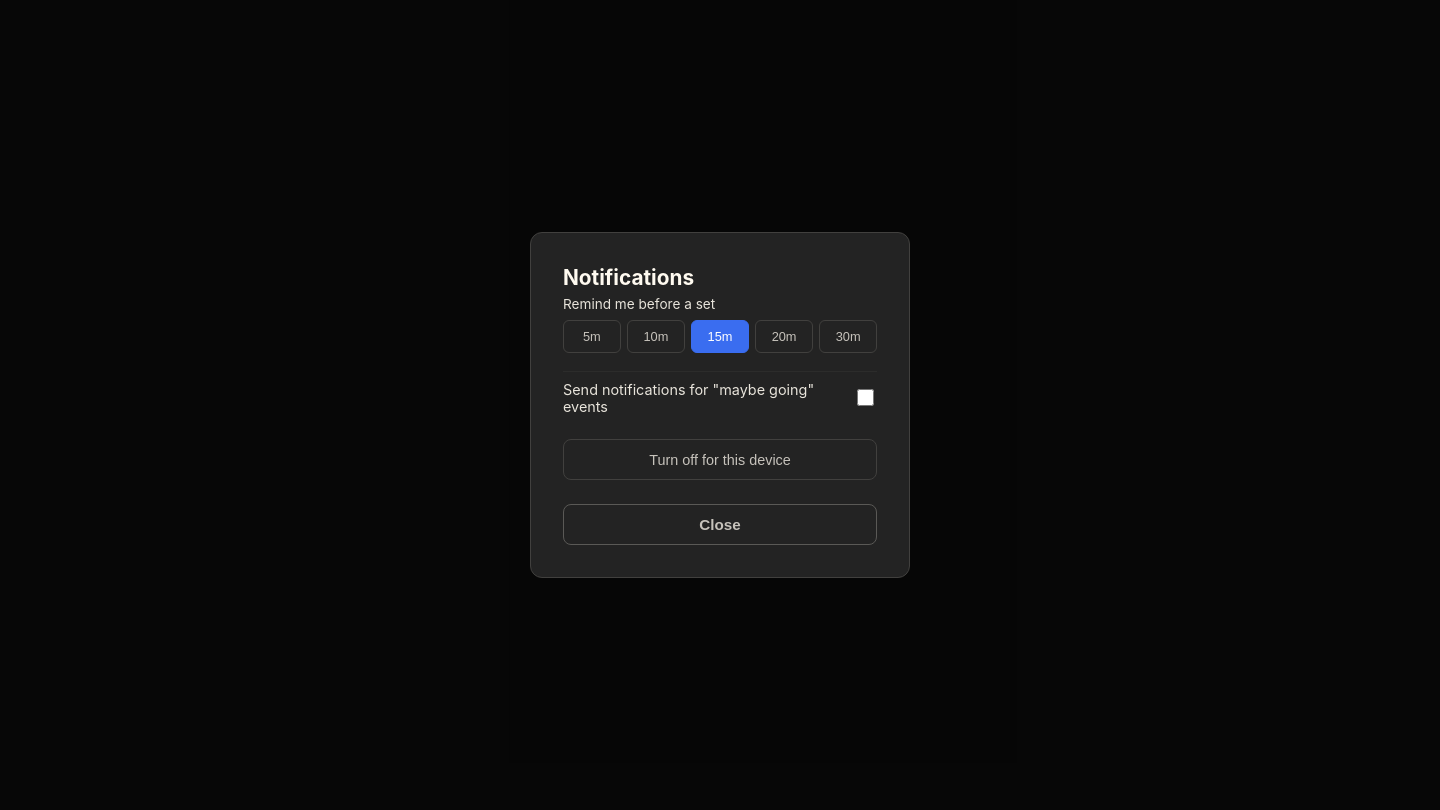
Test: NotificationsModal › hides the confirm button again once the save succeeds
Click the button "30m": coordinates (848, 337) [819, 320, 877, 353]
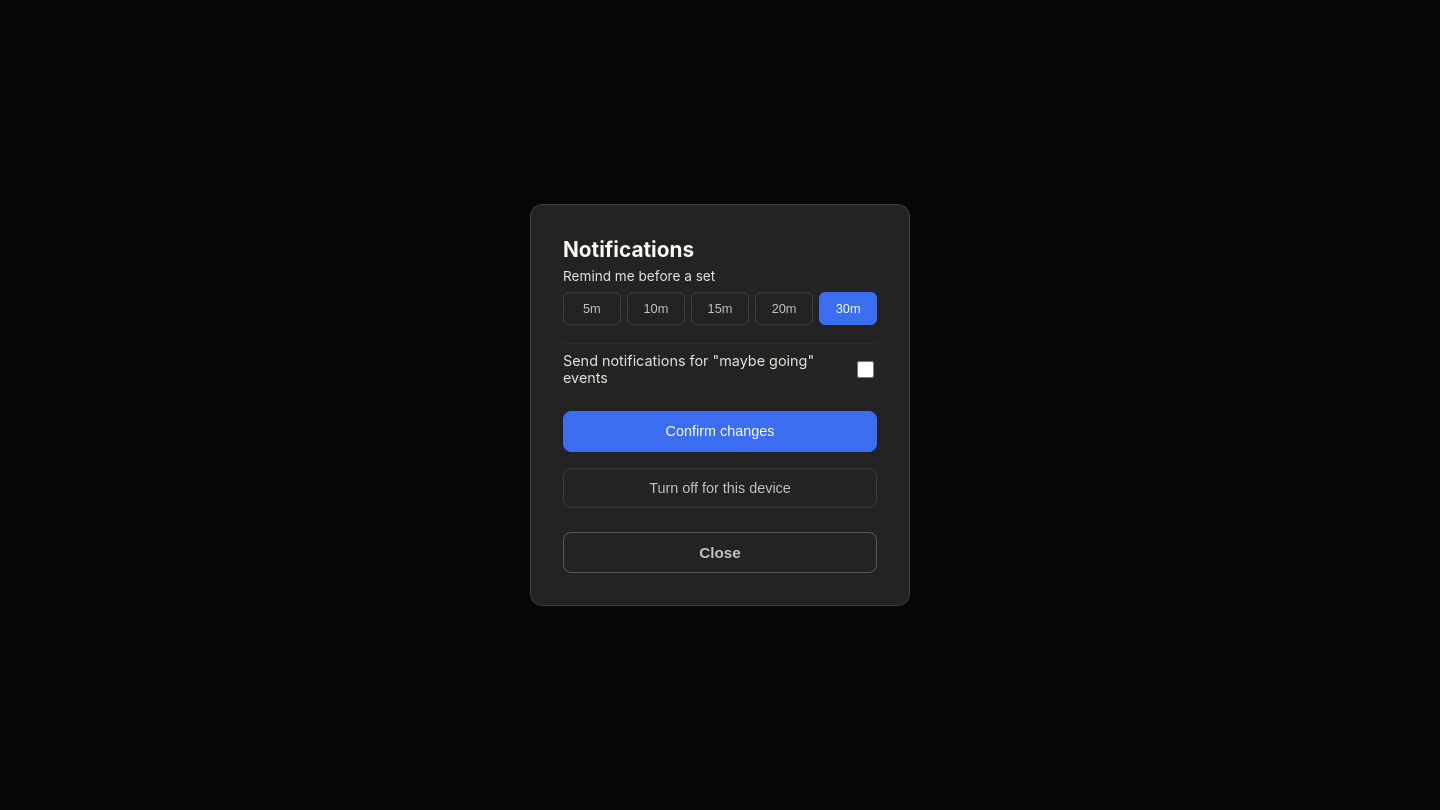
Click the button "Confirm changes": coordinates (720, 431) [563, 411, 877, 452]
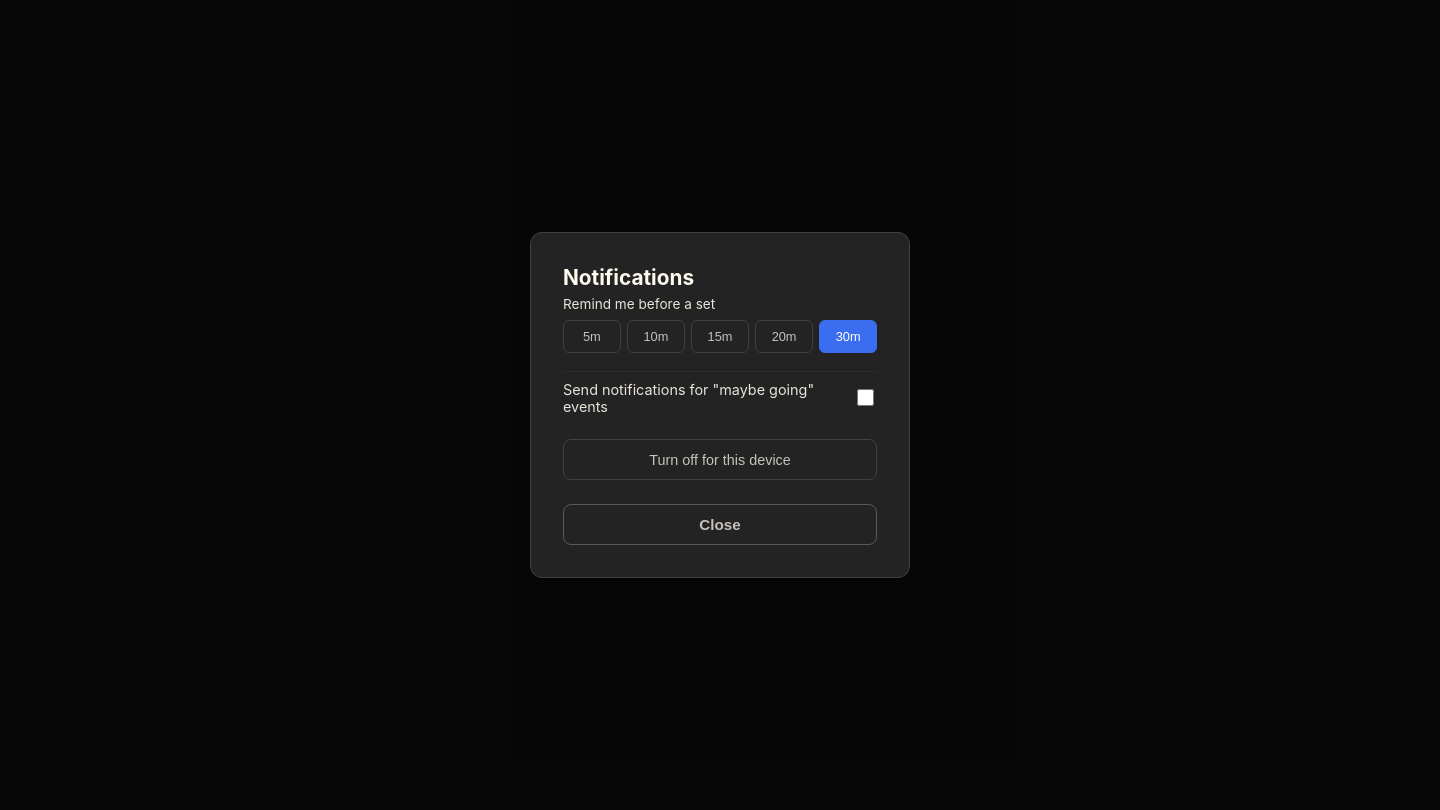
Expected: the button "Confirm changes" is gone
